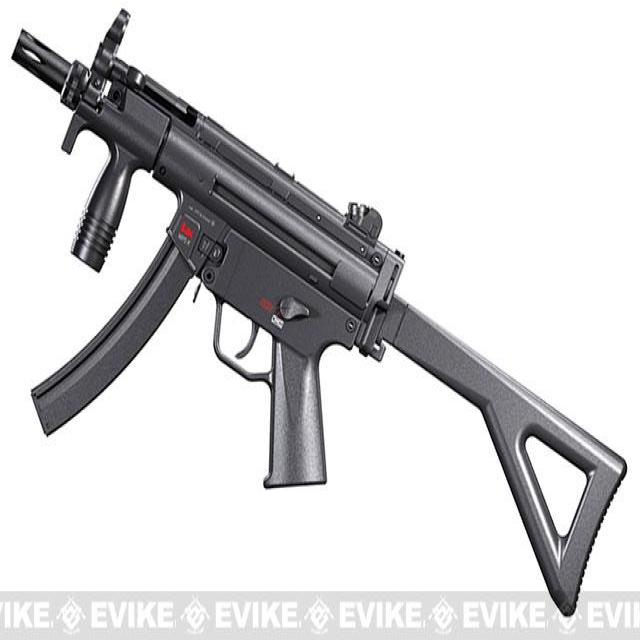SMG: (9, 11, 630, 622)
